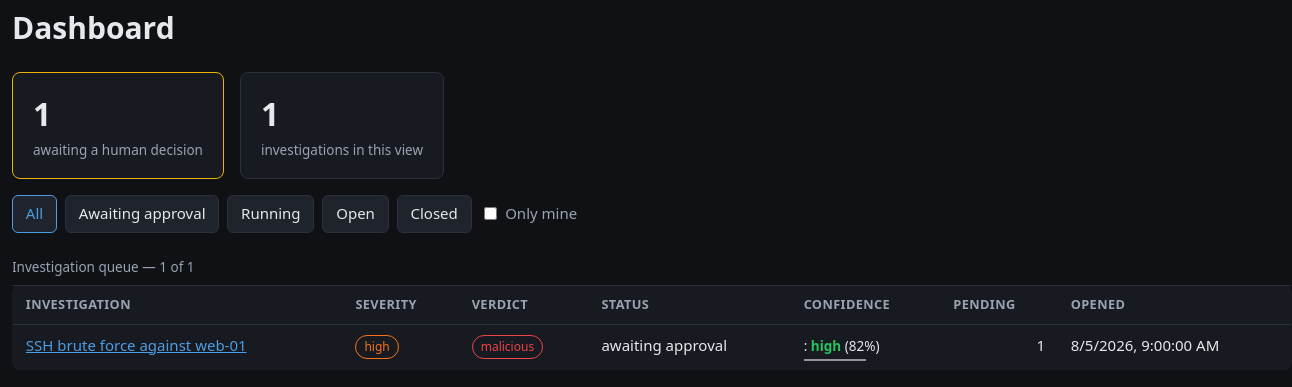
Test: DashboardPage › filters by status without losing the count under that filter
This screenshot has width=1292, height=387.
Expected: the table is shown, 12,249 -> 1291,370
Click the button "Closed": click(434, 214) 397,194 -> 472,232
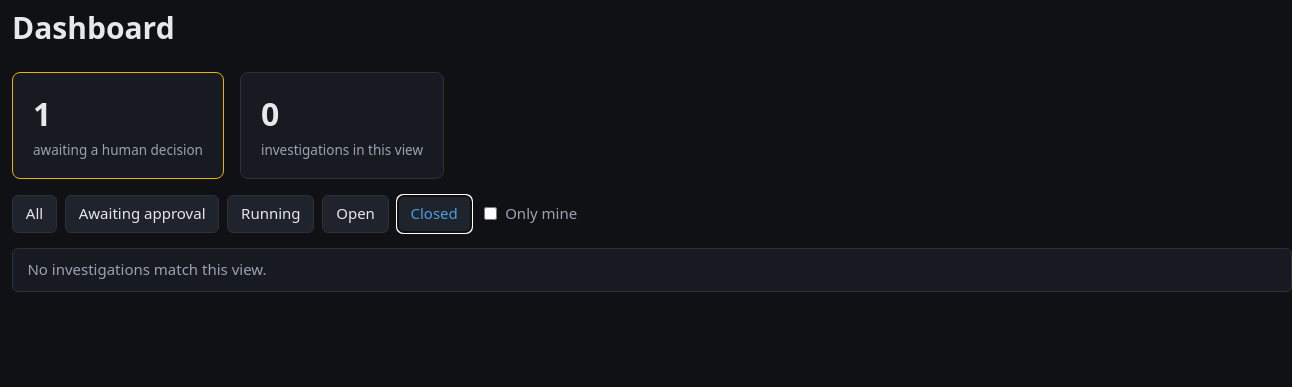
Expected: the text "No investigations match this view." is shown, 12,248 -> 1291,292
